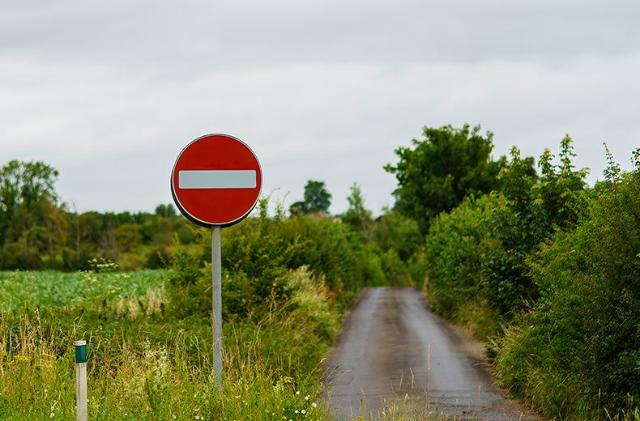B2: (169, 132, 263, 228)
